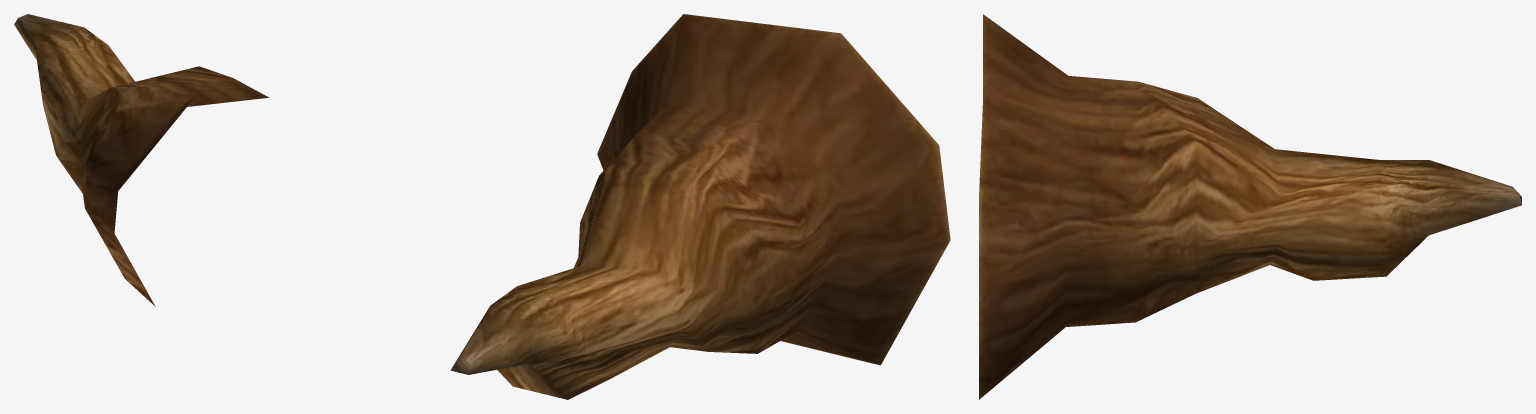
3 views of the same model, side by side, from view 1: azimuth 30°, elevation 25°; view 2: azimuth 150°, elevation 25°; view 3: azimuth 270°, elevation 25° (orthographic). The views are drawn at different scales.
Visible parts, largest first — view 1: model_Object15; view 2: model_Object15; view 3: model_Object15.
Part boxes in pixels (bbox=[...]): model_Object15: bbox=[14, 14, 268, 306]; model_Object15: bbox=[450, 14, 950, 399]; model_Object15: bbox=[979, 14, 1521, 399].
Bounding box in the file's own units: 1.65 × 1.45 × 2.33.
Materials: 1 (1 with a texture image).
